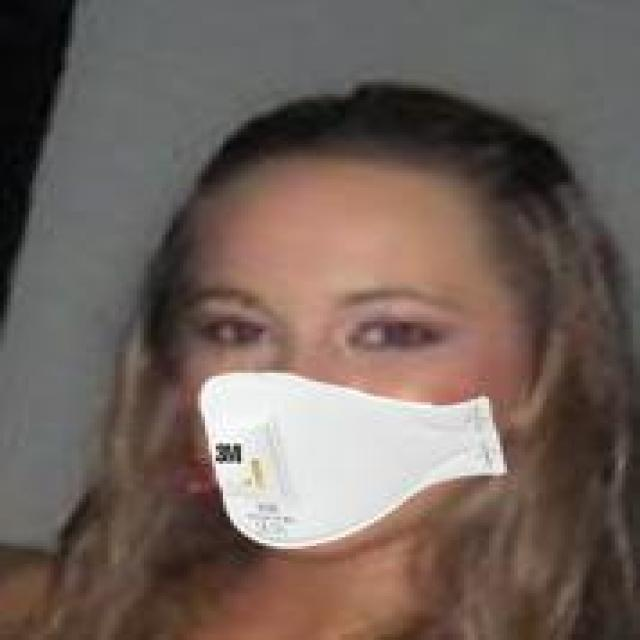mask: (180, 44, 615, 558)
